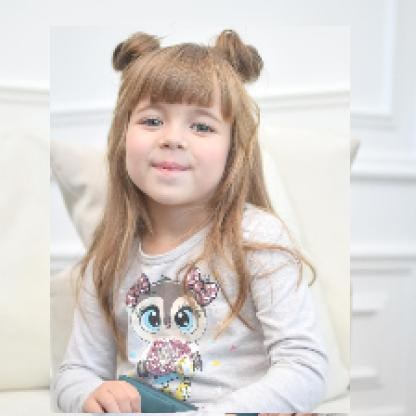child: (51, 27, 352, 415)
